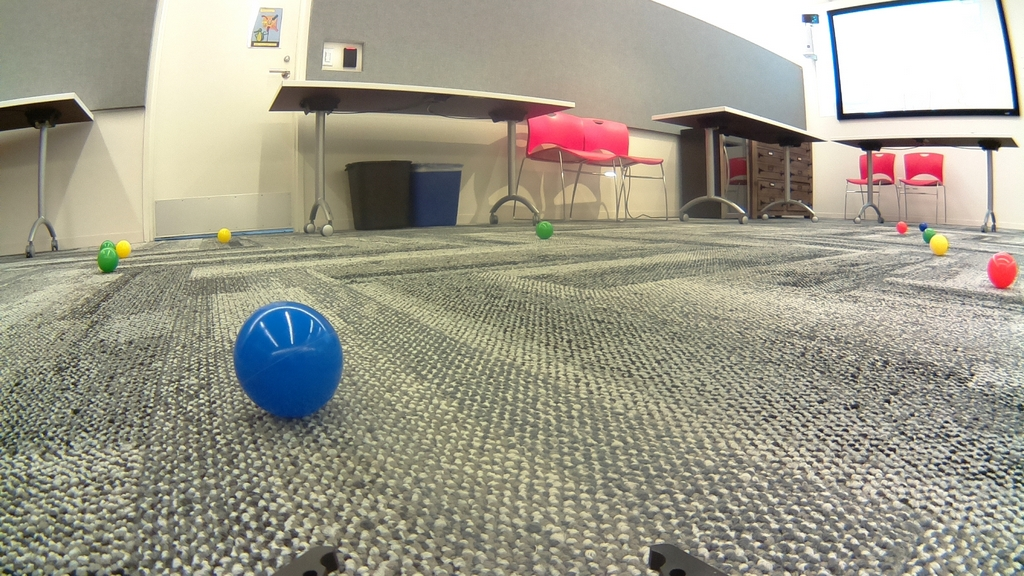ball: (930, 235, 950, 257)
